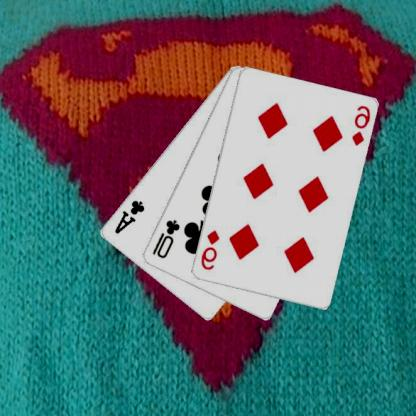10C: (151, 217, 183, 260)
6D: (199, 228, 223, 272), (351, 103, 373, 147)
AC: (113, 197, 148, 236)
